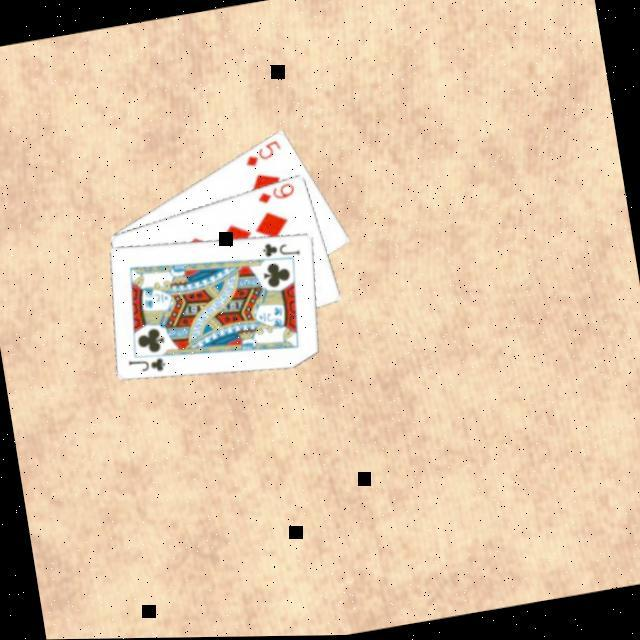5D: (242, 138, 288, 172)
9D: (255, 182, 301, 210)
JC: (260, 236, 306, 266), (128, 353, 172, 382)
